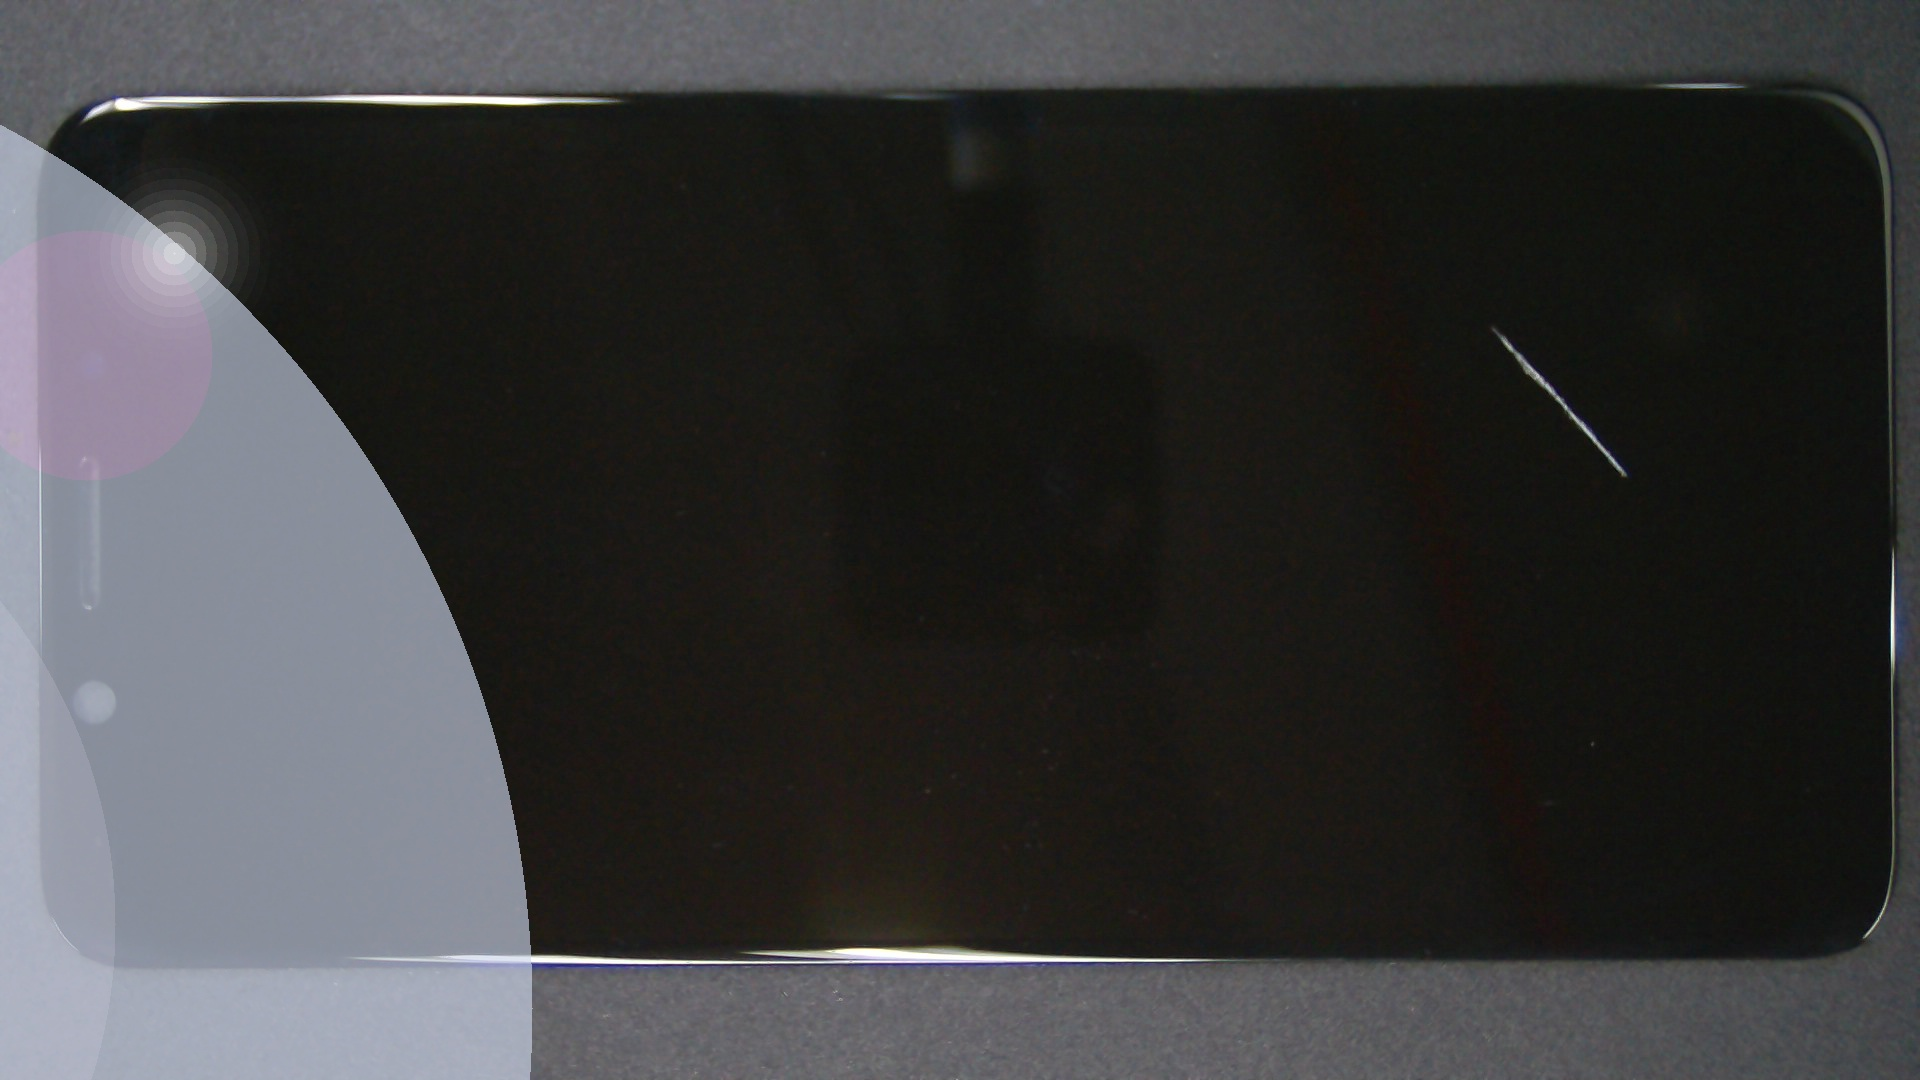oil: (748, 162, 1920, 488)
